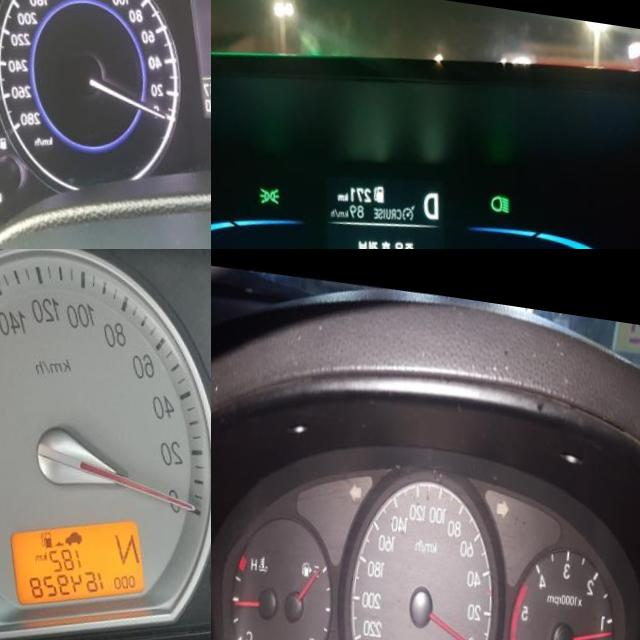Low beam: (494, 179, 516, 202)
SideLamp: (264, 179, 287, 201)
